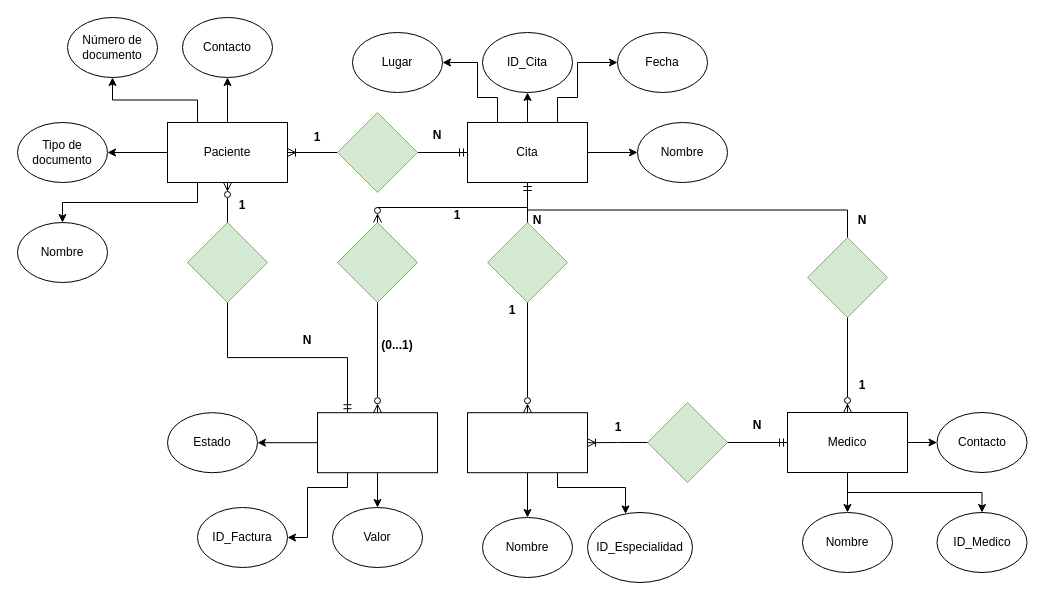
This 1045x600 diagram has some shape labels left out. Each missing label, with the box of its shape:
Agendar: (336, 112, 418, 192)
Atender: (806, 236, 888, 318)
Corresponde: (486, 222, 568, 302)
Especialidad: (466, 412, 588, 473)
Factura: (316, 412, 438, 473)
Genera: (336, 222, 418, 302)
Pertenece: (646, 402, 728, 482)
Se factura a: (186, 222, 268, 302)
